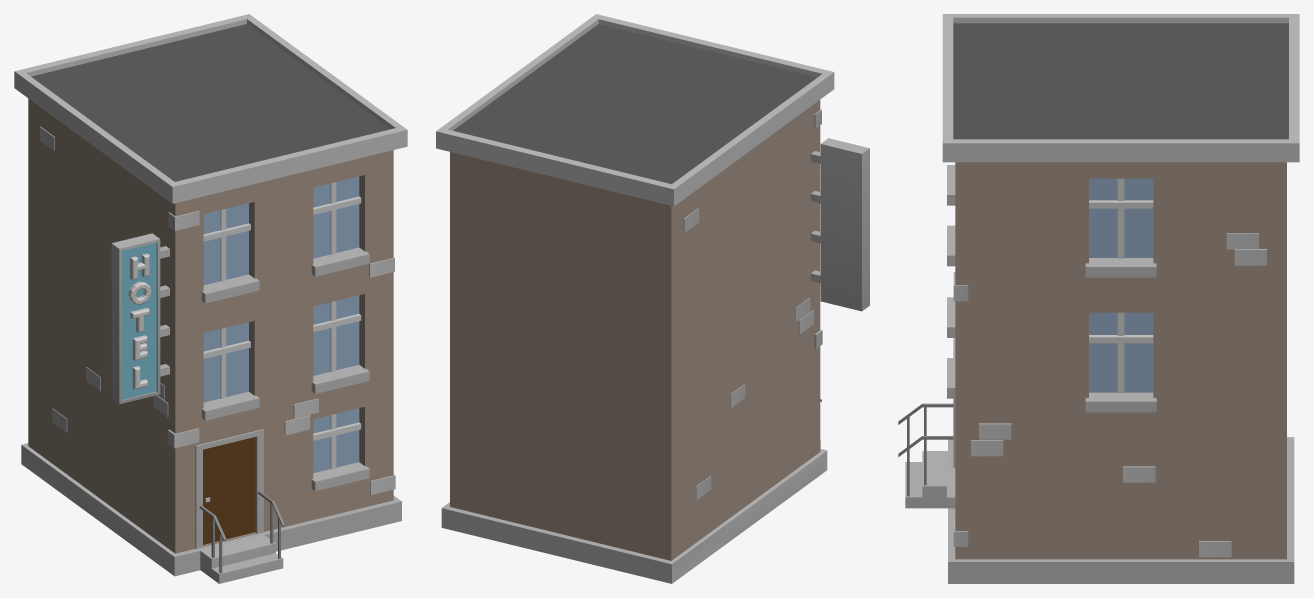
The model's file is Hotel_02.fbx.
3 views of the same model, side by side, from view 1: azimuth 30°, elevation 25°; view 2: azimuth 150°, elevation 25°; view 3: azimuth 270°, elevation 25° (orthographic). The views are drawn at different scales.
Parts seen in each view (by area): view 1: Hotel_02; view 2: Hotel_02; view 3: Hotel_02.
Part boxes in pixels (box(x1,y1,x2,y2)): Hotel_02: box(14, 14, 407, 583); Hotel_02: box(436, 14, 869, 583); Hotel_02: box(898, 14, 1299, 583).
Bounding box in the file's own units: 576 × 773 × 635.
